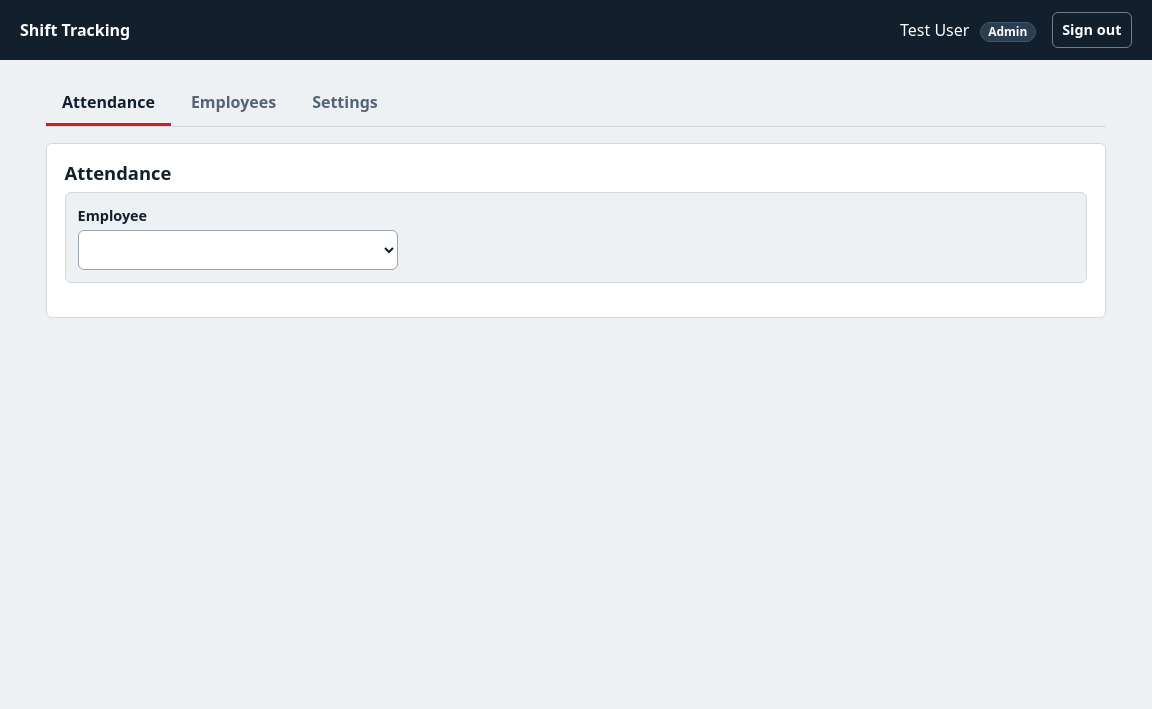
Scenario: admin sees Attendance, Employees and Settings, opens on Attendance
Click the link "Settings": [345, 102] box x1=312 y1=91 x2=378 y2=113
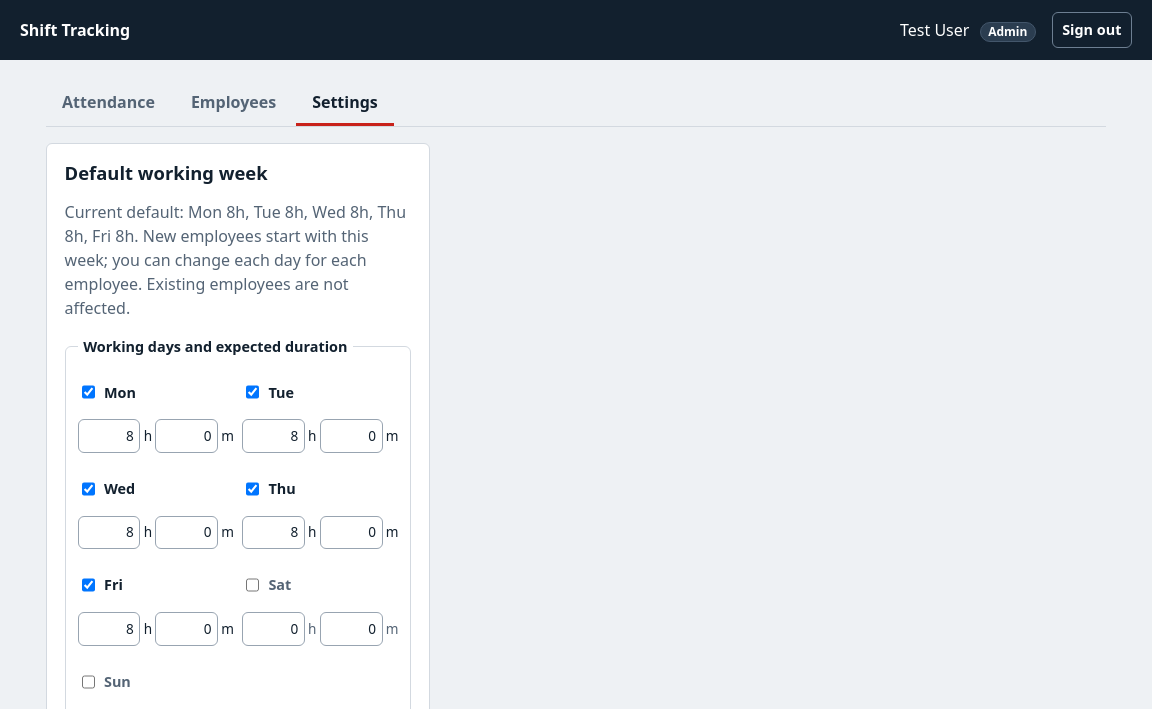
Result: the heading "Default working week" is shown at x1=65 y1=160 x2=268 y2=185
